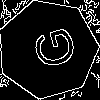G: (23, 24, 78, 75)
